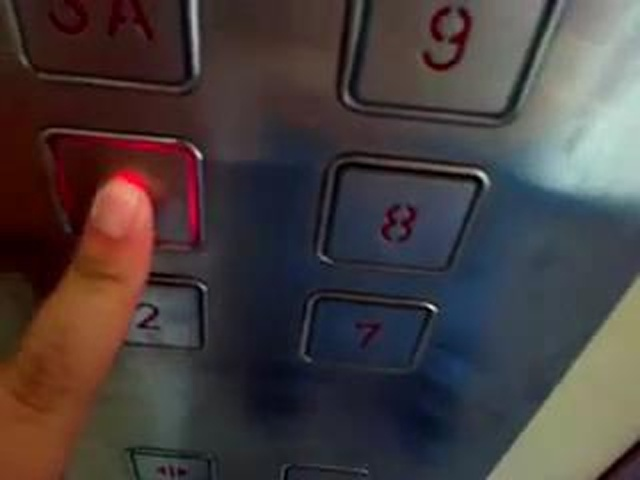2: (84, 273, 211, 354)
7: (298, 287, 439, 382)
8: (315, 151, 492, 279)
9: (331, 1, 568, 131)
open: (127, 448, 221, 480)
